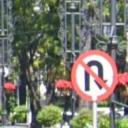NoVirarU: (69, 48, 121, 105)
